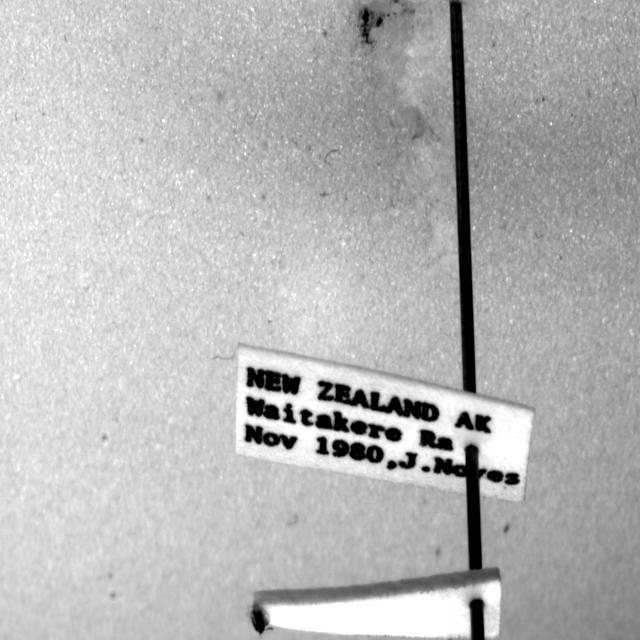typed_label: (235, 345, 534, 501)
